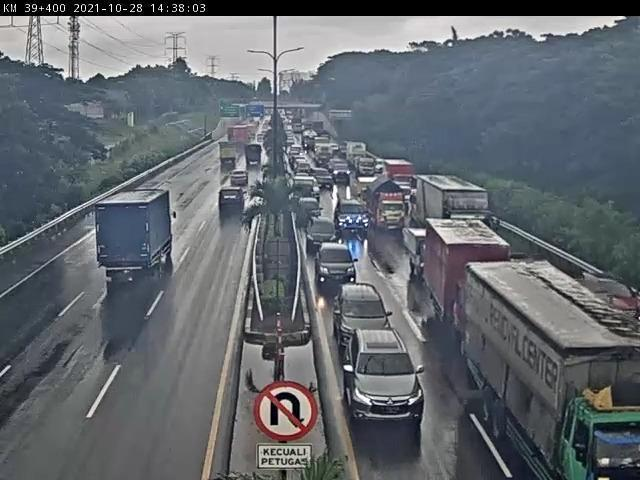car: (83, 176, 184, 287), (341, 328, 434, 428), (578, 250, 640, 353), (328, 276, 396, 347), (314, 245, 366, 293), (331, 198, 373, 240), (309, 215, 346, 255), (218, 180, 252, 215), (298, 199, 332, 228), (292, 182, 327, 210), (335, 162, 356, 188), (231, 166, 260, 184)
truck: (464, 259, 640, 480), (429, 216, 514, 331), (418, 174, 513, 250), (370, 180, 410, 242), (407, 228, 452, 283), (371, 180, 412, 235), (213, 140, 250, 171), (245, 144, 274, 168)
